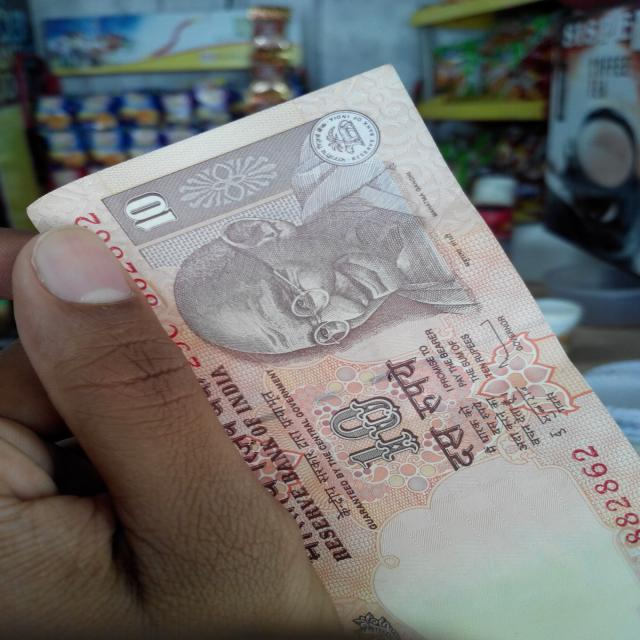10rs: (27, 62, 640, 640)
